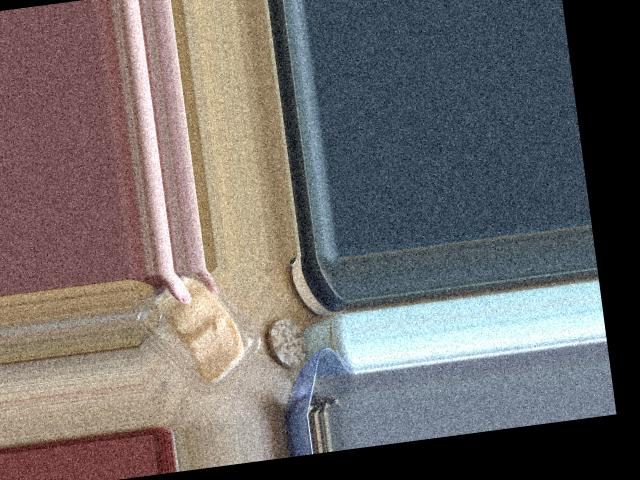cheese: (134, 270, 278, 415)
